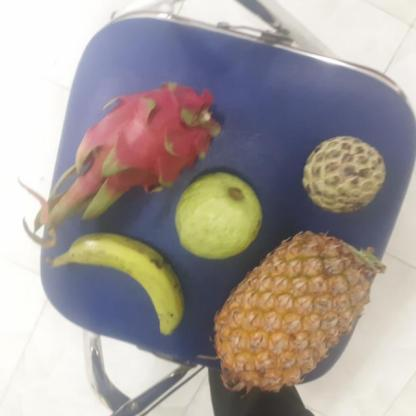annona: (300, 135, 386, 212)
guava: (170, 170, 263, 258)
orange: (44, 221, 187, 345)
pineapple: (211, 233, 375, 393)
pitaya: (80, 82, 219, 193)
